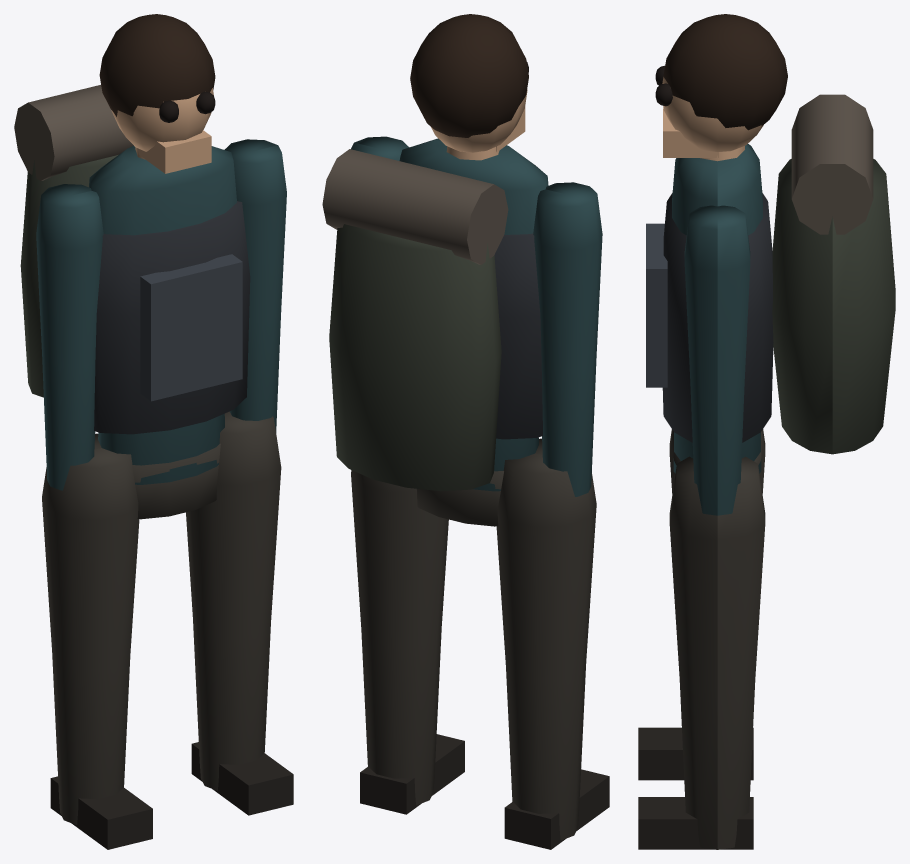
Rendered from player_avatar.glb.
3 renders of one model, left to right at view 1: azimuth 30°, elevation 25°; view 2: azimuth 150°, elevation 25°; view 3: azimuth 270°, elevation 25°, orthographic. The views are drawn at different scales.
Parts seen in each view (by area): view 1: player_avatar; view 2: player_avatar; view 3: player_avatar.
Boxes of the visible parts, <box> form: player_avatar: <box>14,14,293,849</box>; player_avatar: <box>322,14,609,849</box>; player_avatar: <box>638,14,895,849</box>.
Size of what is drawn, in the model's own units: 0.5884 by 1.8 by 0.536.
